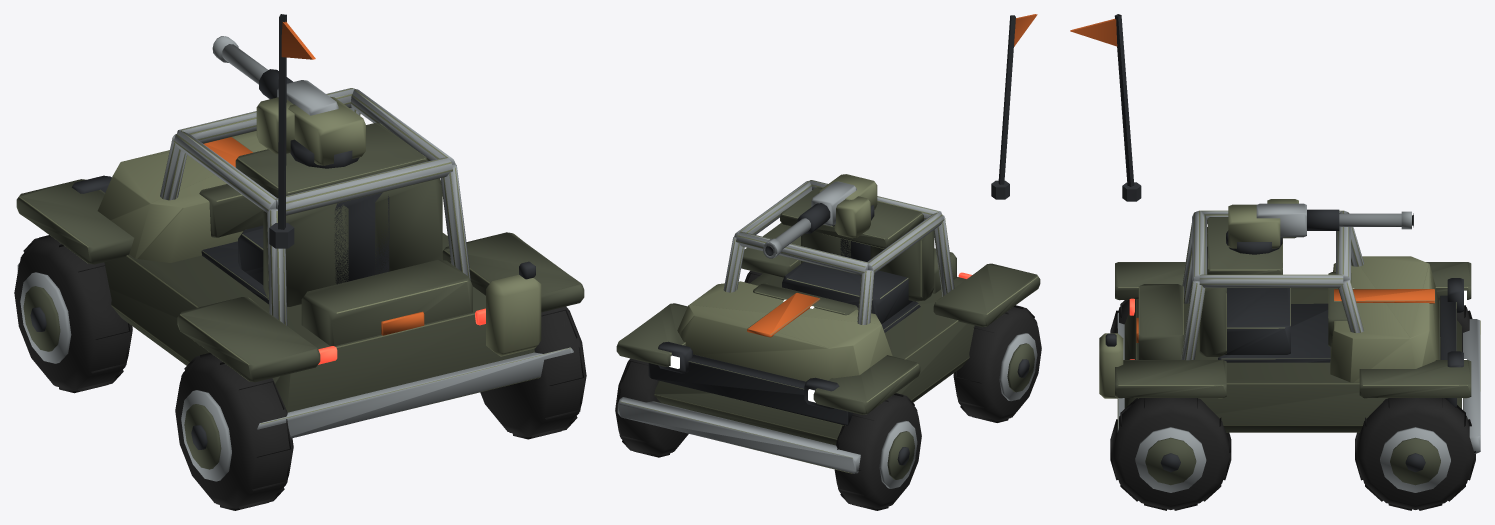
File: buggy.glb
3 renders of one model, left to right at view 1: azimuth 30°, elevation 25°; view 2: azimuth 150°, elevation 25°; view 3: azimuth 270°, elevation 25°, orthographic. The views are drawn at different scales.
Visible parts, largest first — view 1: buggy_body, buggy_wheel_L1, buggy_wheel_L2, buggy_wheel_R1, buggy_mg, buggy_mount; view 2: buggy_body, buggy_wheel_L1, buggy_wheel_L2, buggy_mg, buggy_wheel_R2, buggy_mount; view 3: buggy_body, buggy_wheel_R1, buggy_wheel_R2, buggy_mg, buggy_mount.
Part boxes in pixels (x1,y1,x2,y2): buggy_body: [16, 14, 584, 438]; buggy_wheel_L1: [175, 353, 293, 510]; buggy_wheel_L2: [14, 235, 132, 393]; buggy_wheel_R1: [480, 306, 586, 439]; buggy_mg: [212, 36, 338, 154]; buggy_mount: [288, 96, 365, 168]; buggy_body: [616, 14, 1040, 473]; buggy_wheel_L1: [953, 305, 1041, 422]; buggy_wheel_L2: [834, 393, 921, 510]; buggy_mg: [763, 181, 870, 258]; buggy_wheel_R2: [615, 358, 688, 457]; buggy_mount: [818, 174, 877, 226]; buggy_body: [1070, 14, 1480, 453]; buggy_wheel_R1: [1110, 398, 1231, 510]; buggy_wheel_R2: [1355, 398, 1475, 510]; buggy_mg: [1256, 199, 1413, 238]; buggy_mount: [1226, 204, 1282, 254].
Size of the model in its own units: 0.4697 by 0.6222 by 0.5997.
3 materials, 2 textured.
